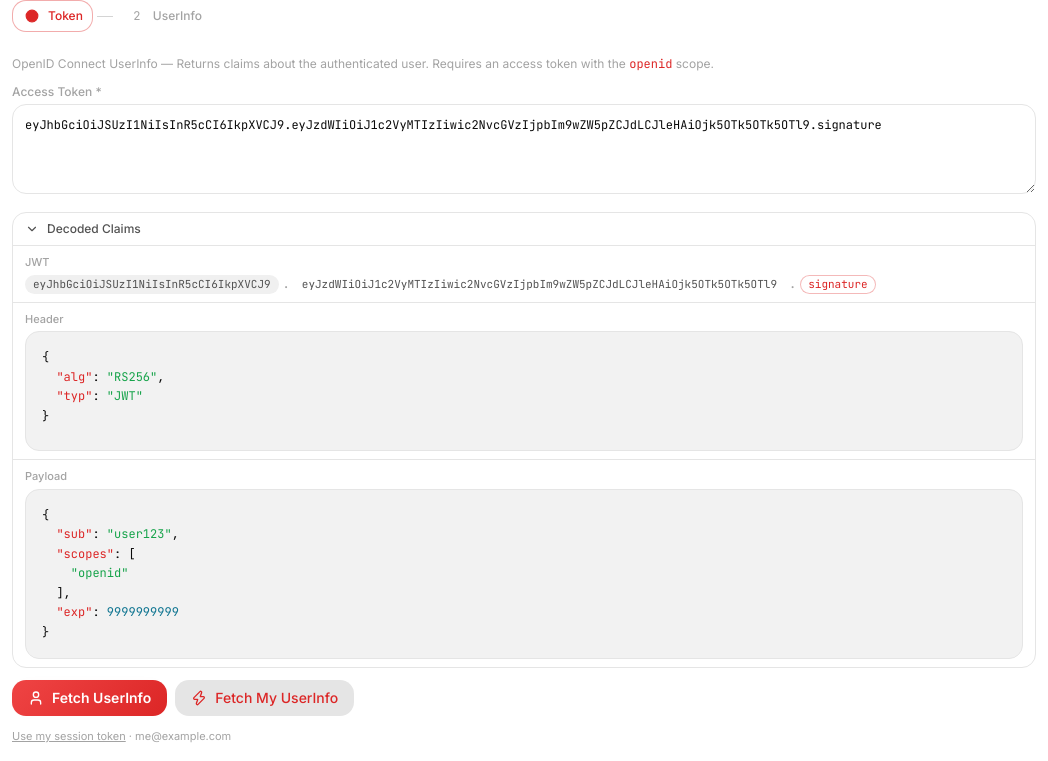
Scenario: UserInfoFlow — interactions › fetches UserInfo and advances to the result step
Click the button "Fetch UserInfo" at (90, 698), box x1=12 y1=680 x2=167 y2=716
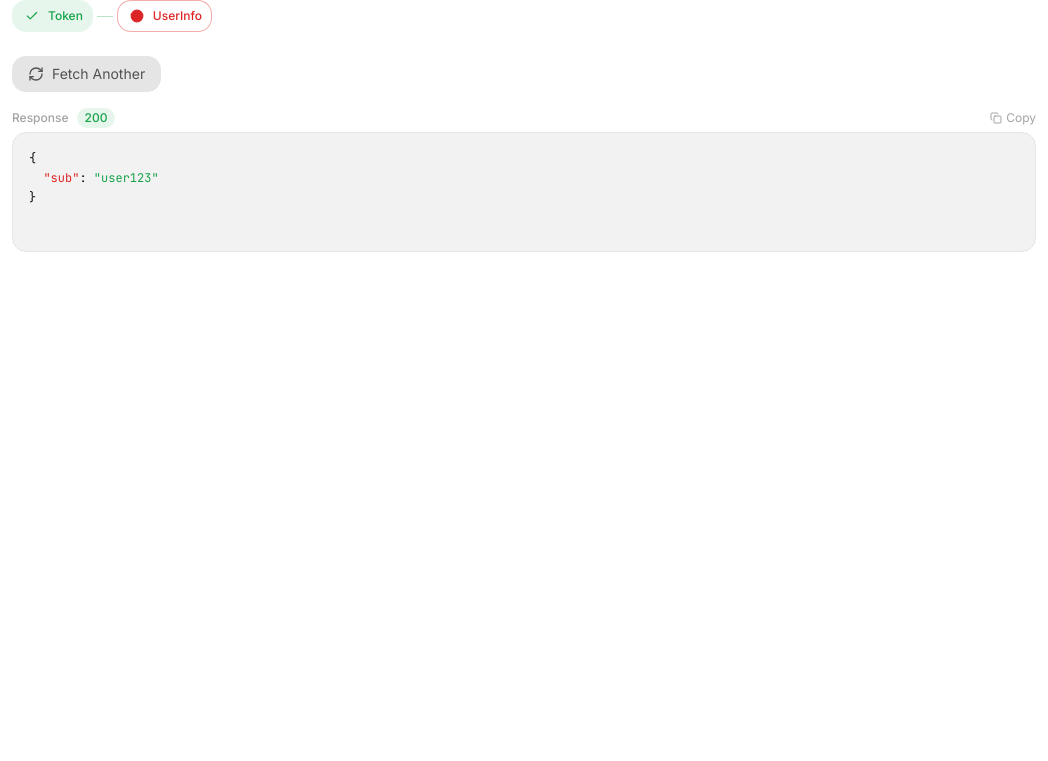
expect the button "Fetch Another" is shown: met, box x1=12 y1=56 x2=161 y2=92
